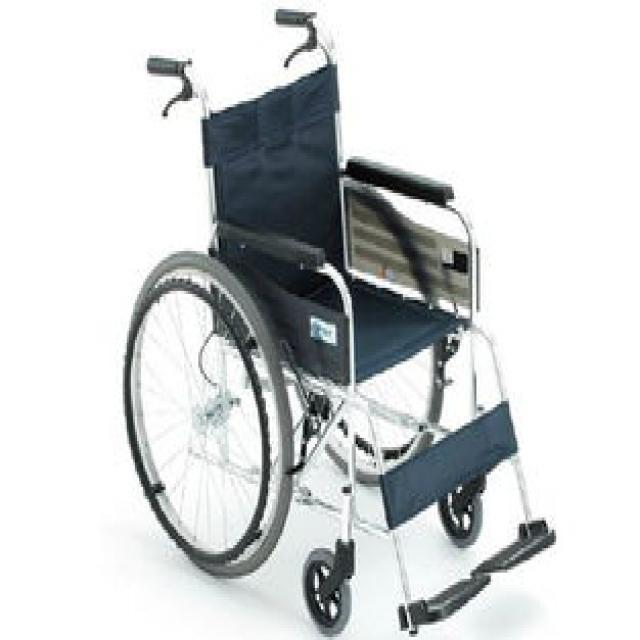wheelchair: (121, 0, 558, 637)
